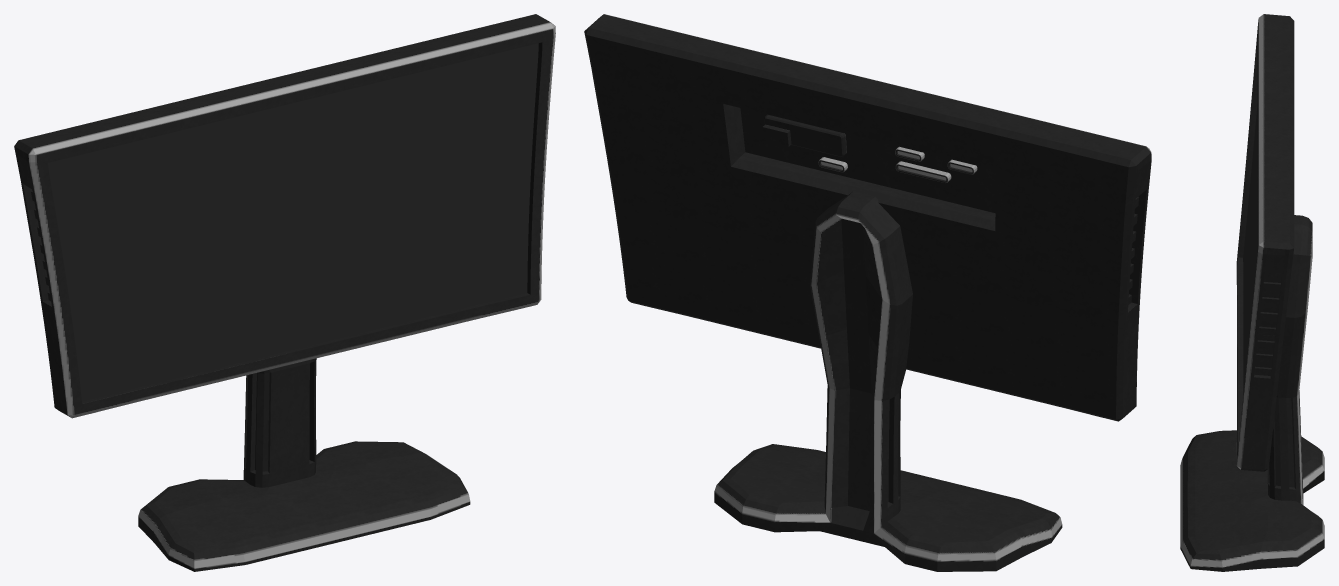
The model's file is Screen1.fbx.
3 renders of one model, left to right at view 1: azimuth 30°, elevation 25°; view 2: azimuth 150°, elevation 25°; view 3: azimuth 270°, elevation 25°, orthographic. The views are drawn at different scales.
Visible parts, largest first — view 1: Screen1; view 2: Screen1; view 3: Screen1.
Boxes of the visible parts, x1,y1,x2,y2 form: Screen1: [14, 14, 555, 571]; Screen1: [584, 14, 1151, 571]; Screen1: [1180, 14, 1324, 571].
Size of the model in its own units: 179 by 138 by 47.22.
